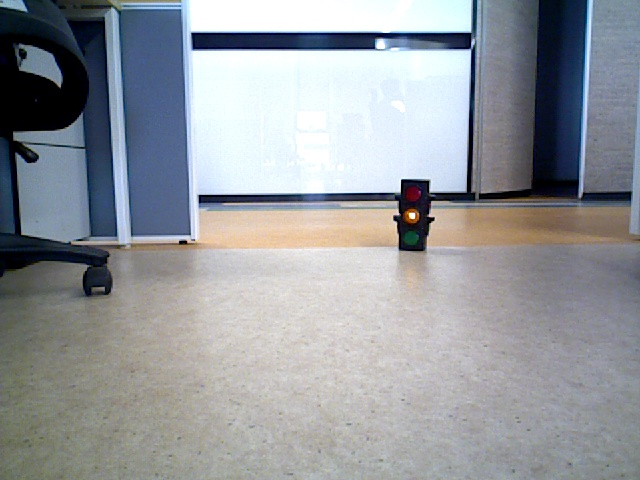yellow: (400, 182, 425, 248)
